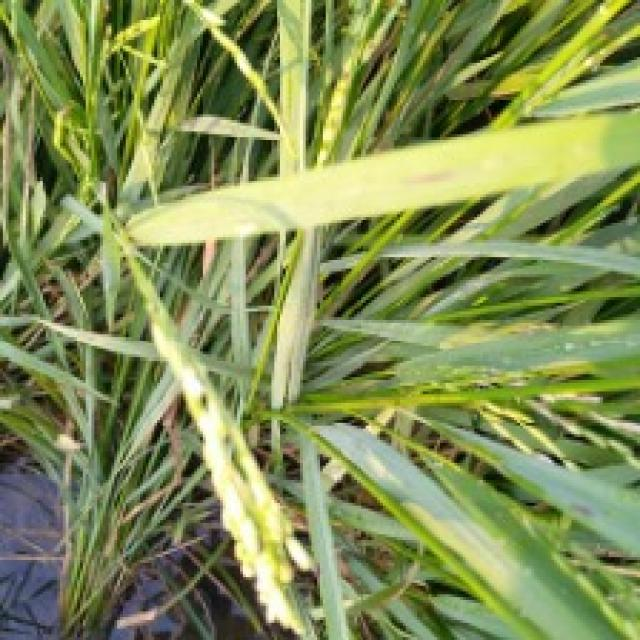Bacterial_Blight: (534, 336, 640, 359)
Brown_Spot: (569, 498, 595, 522)
Rice_Blast: (389, 156, 495, 194)
